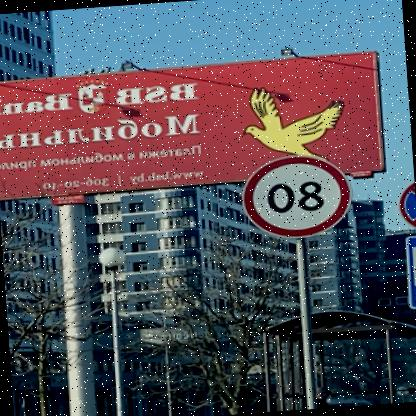speedlimit: (241, 151, 357, 240)
